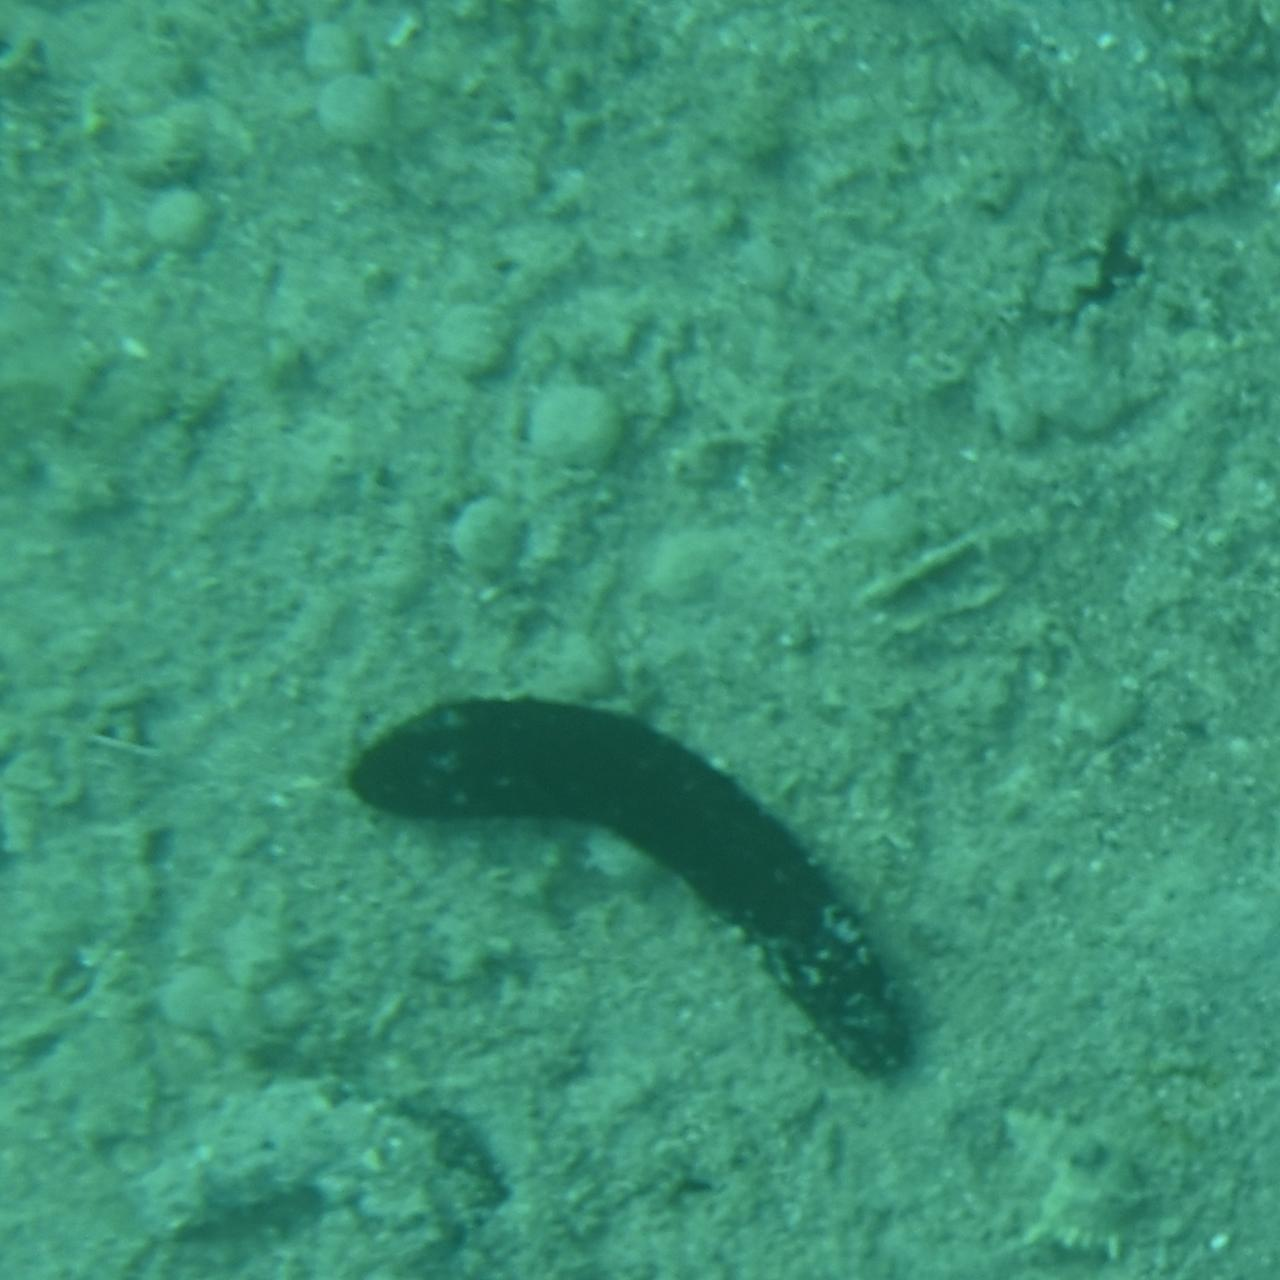Holothuria tubulosa: (346, 683, 931, 1063), (683, 0, 1245, 211), (130, 1073, 504, 1280)
